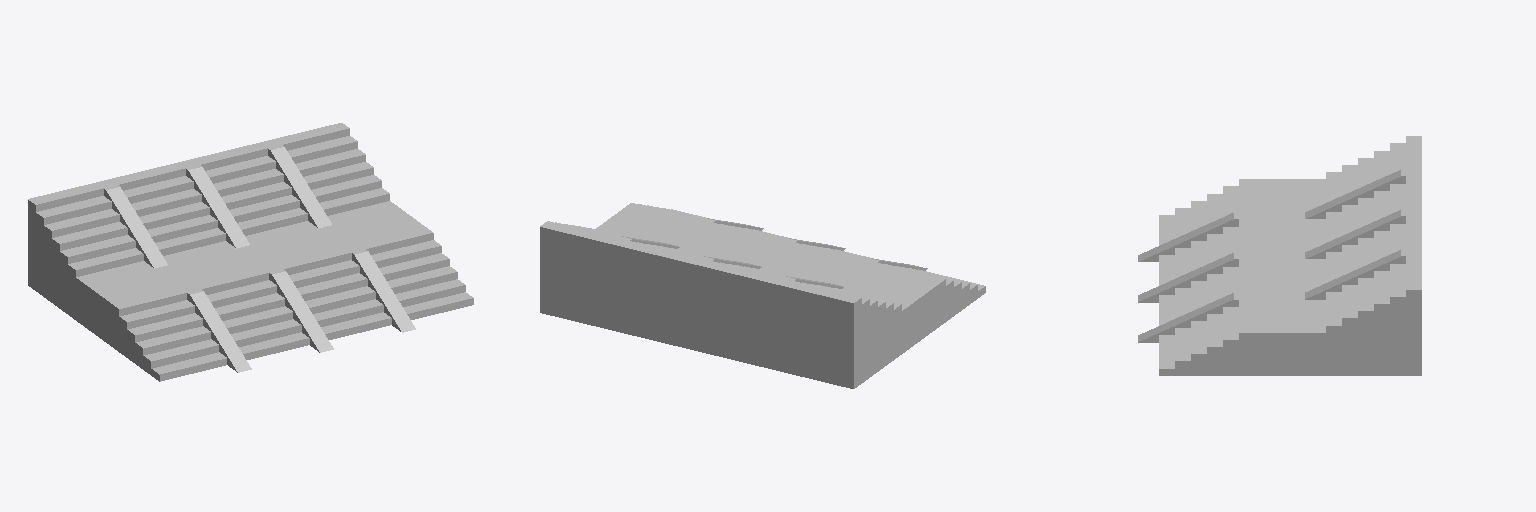
The model's file is stairs.obj.
3 views of the same model, side by side, from view 1: azimuth 30°, elevation 25°; view 2: azimuth 150°, elevation 25°; view 3: azimuth 270°, elevation 25° (orthographic).
Visible parts, largest first — view 1: SketchUp_ID3; view 2: SketchUp_ID3; view 3: SketchUp_ID3.
Part boxes in pixels (x1,y1,x2,y2): SketchUp_ID3: (28, 123, 473, 381); SketchUp_ID3: (540, 203, 985, 388); SketchUp_ID3: (1138, 136, 1421, 375).
Size of the model in its own units: 1.79 by 0.468 by 1.4.